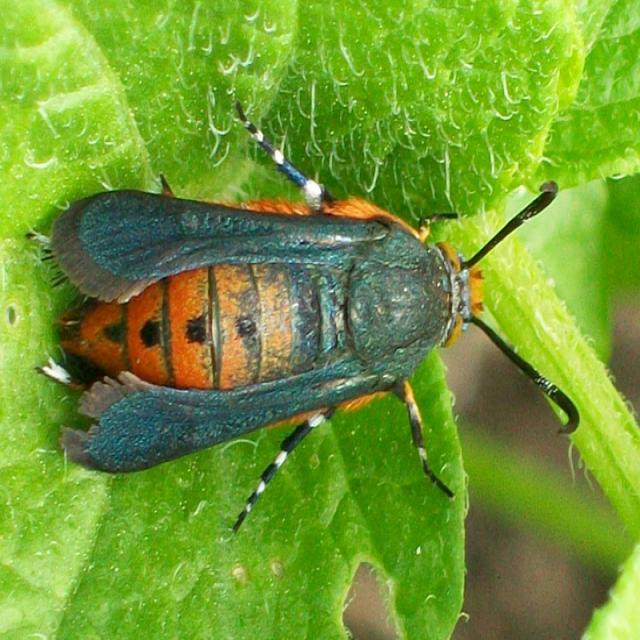squash_vine_borer: (28, 93, 582, 537)
